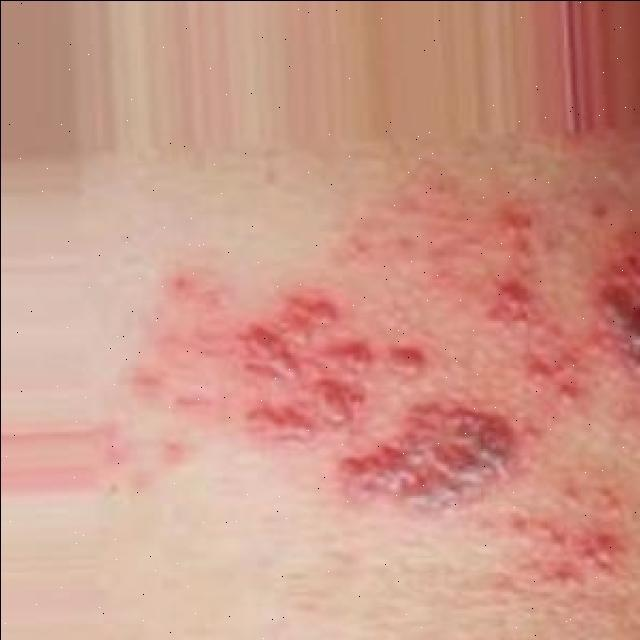Shingles: (216, 201, 640, 520)
